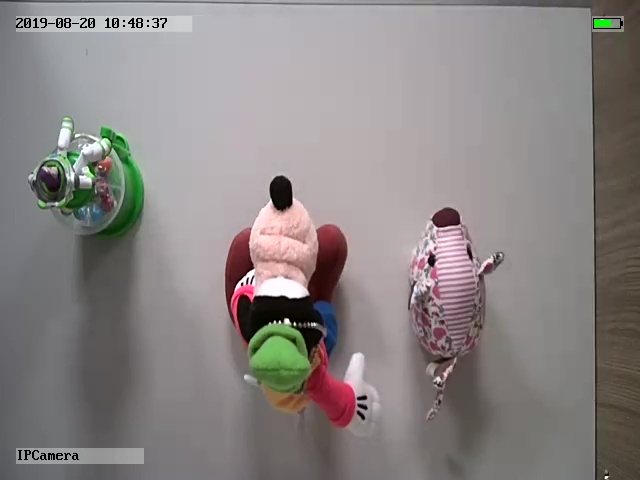buzz: (27, 115, 143, 240)
goofy: (222, 174, 383, 439)
pig: (405, 205, 508, 421)
